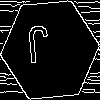J: (25, 25, 51, 73)
